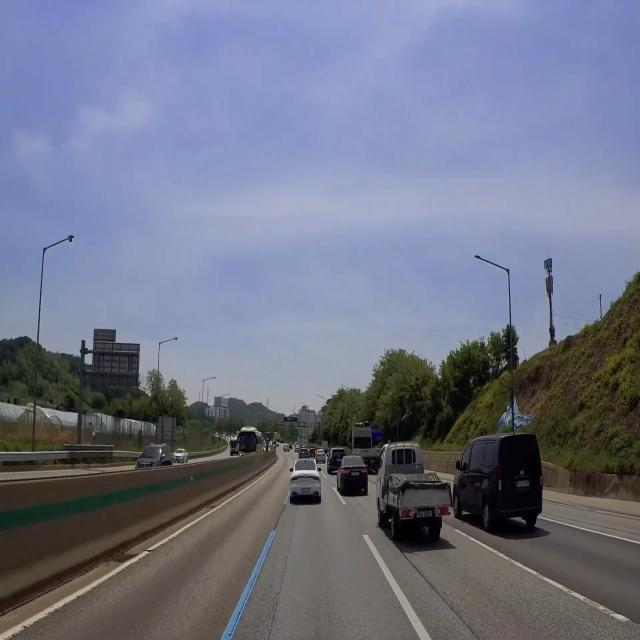car: (415, 510, 434, 519), (299, 485, 314, 494), (516, 479, 531, 488), (349, 471, 362, 480), (370, 457, 376, 464), (337, 458, 344, 464)
